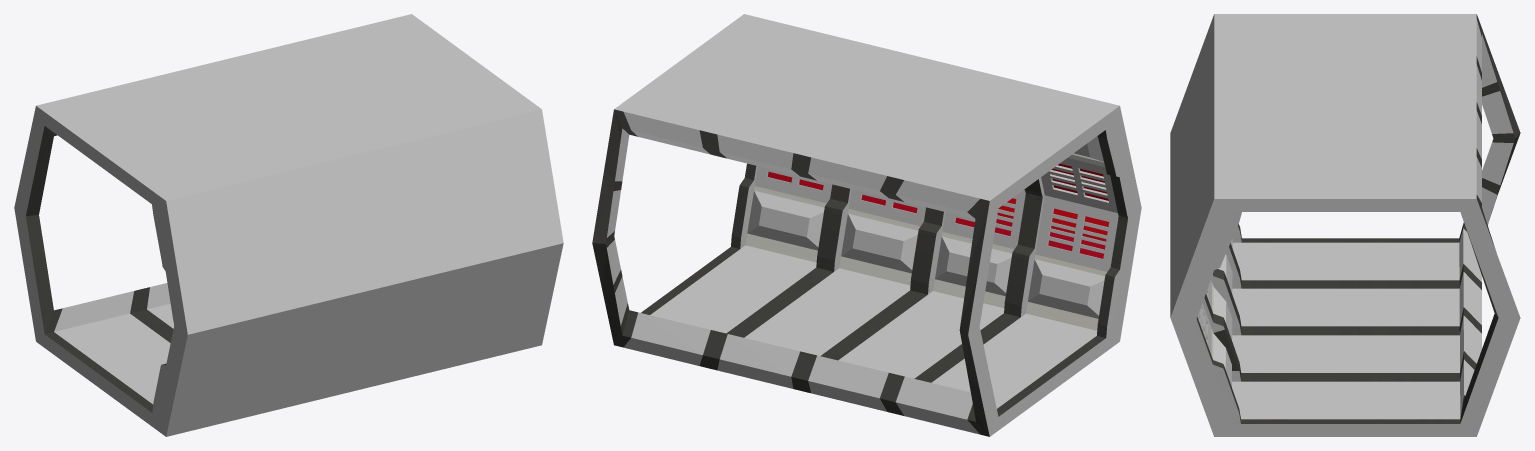
The model's file is Hallway_Open.fbx.
3 views of the same model, side by side, from view 1: azimuth 30°, elevation 25°; view 2: azimuth 150°, elevation 25°; view 3: azimuth 270°, elevation 25° (orthographic).
Visible parts, largest first — view 1: pCube1; view 2: pCube1; view 3: pCube1.
Part boxes in pixels (left/top/right/bottom): pCube1: left=14, top=14, right=563, bottom=436; pCube1: left=592, top=14, right=1141, bottom=436; pCube1: left=1170, top=14, right=1520, bottom=436.
Bounding box in the file's own units: 2.5 × 1.5 × 2.
